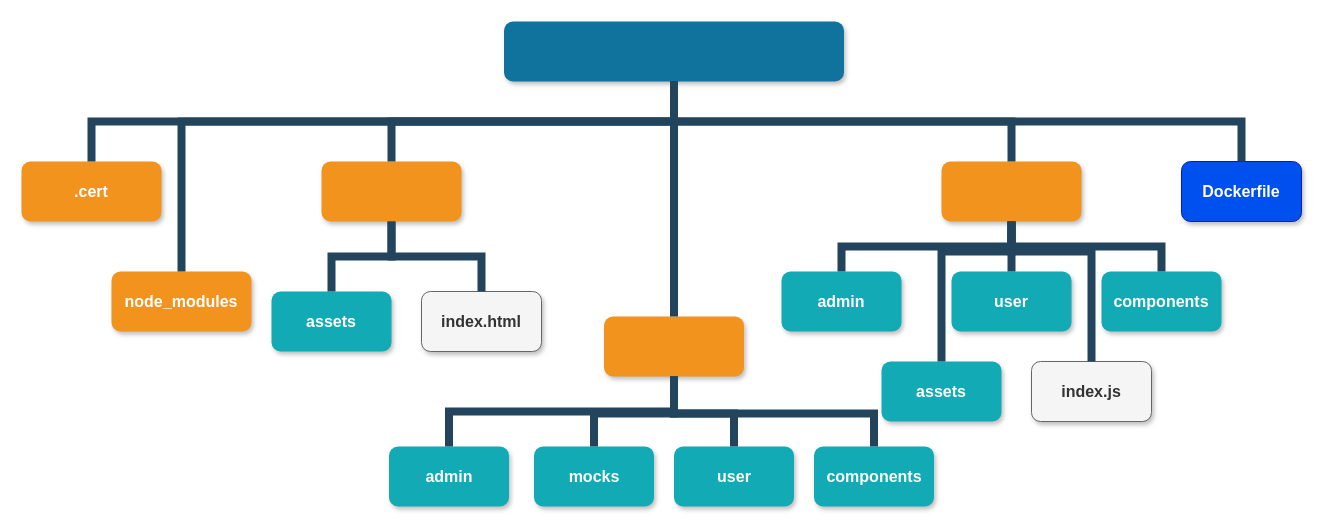
Image size: 1325x530. Some labels were removed from this diagram. Each missing label, with the centre of its shape:
"Frontend" belongs at pixel 675 52.
"public" belongs at pixel 392 192.
"src" belongs at pixel 1012 192.
"test" belongs at pixel 675 347.
